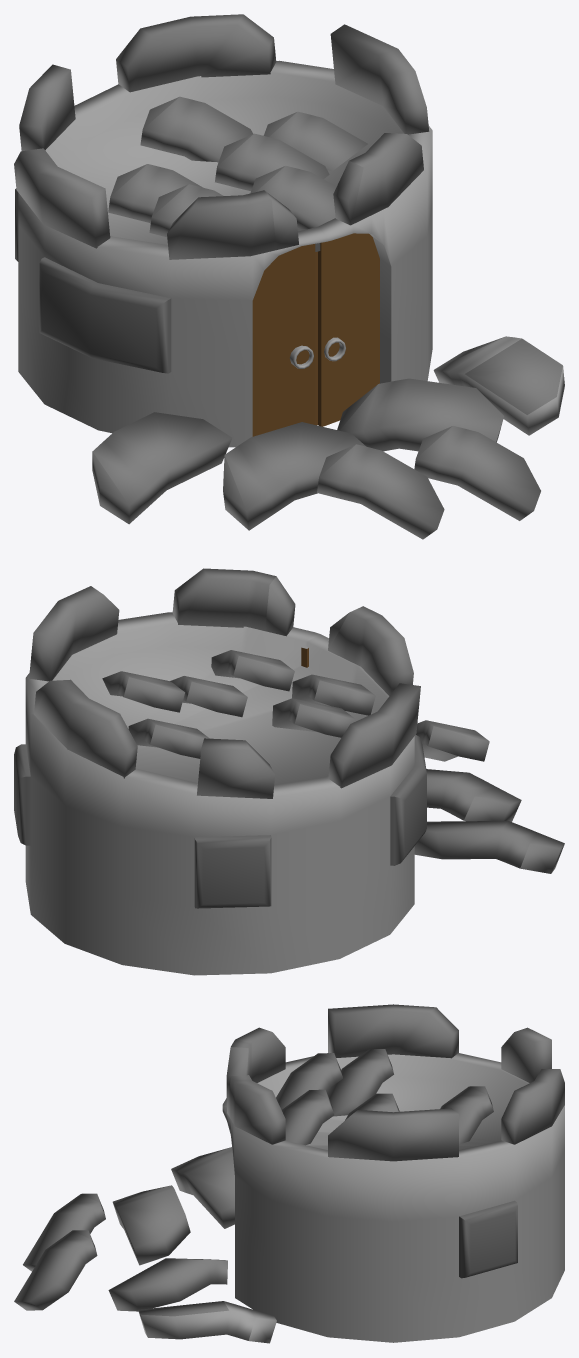
Rendered from AR TOWER  L_2 D2.fbx.
The picture shows the model from 3 angles, top to bottom: view 1: azimuth 30°, elevation 25°; view 2: azimuth 150°, elevation 25°; view 3: azimuth 270°, elevation 25°; orthographic projection. The views are drawn at different scales.
Parts seen in each view (by area): view 1: Cylinder.071; view 2: Cylinder.071; view 3: Cylinder.071.
Boxes of the visible parts, box(x1,y1,x2,y2) form: Cylinder.071: box(14, 14, 564, 539); Cylinder.071: box(14, 568, 564, 975); Cylinder.071: box(14, 1004, 564, 1343).
Bounding box in the file's own units: 510 × 305 × 654.
